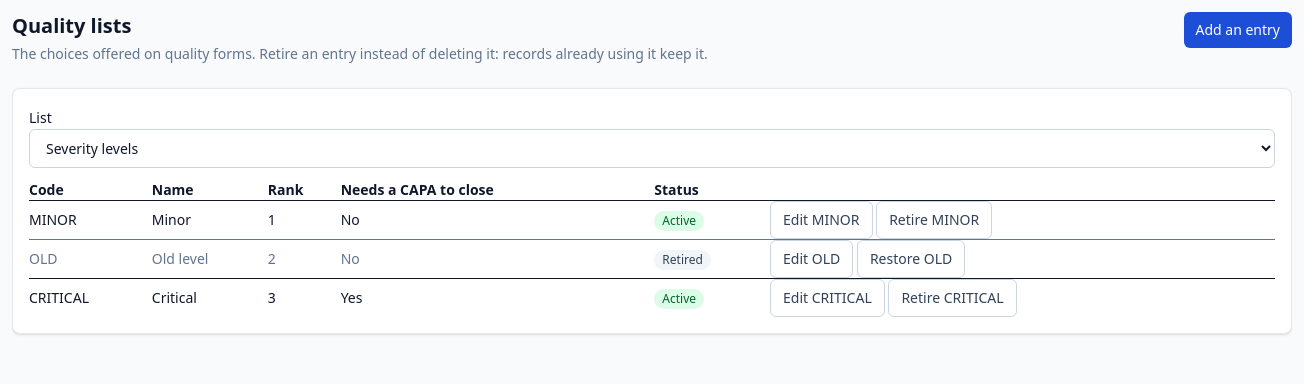
it: QualitySettingsPage › retires and restores an entry, and shows a server refusal
The width and height of the screenshot is (1304, 384).
What coordinates should you click on to do the following:
click the button "Retire MINOR"
I would click on:
 (934, 220)
Its box is left=876, top=201, right=992, bottom=239.
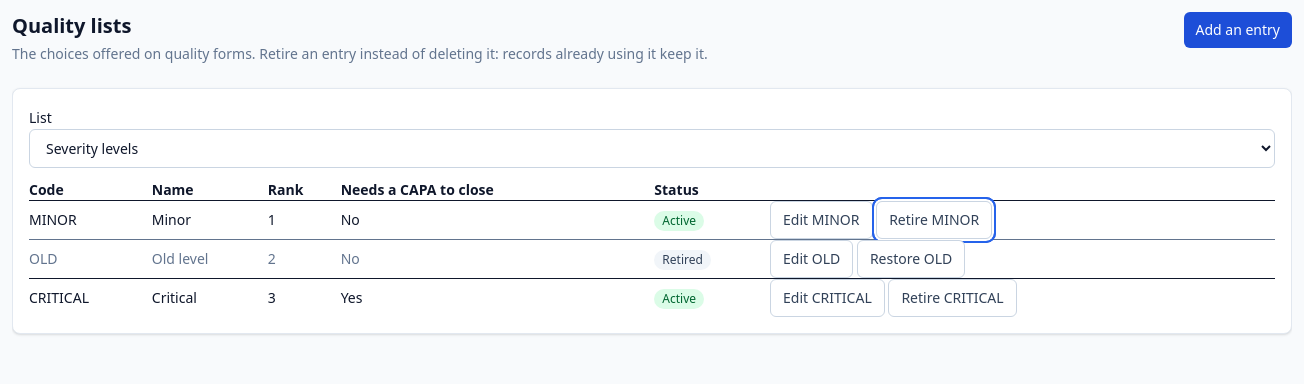
What coordinates should you click on to do the following:
click the button "Restore OLD"
I would click on:
 (911, 259)
Its box is left=857, top=240, right=965, bottom=278.
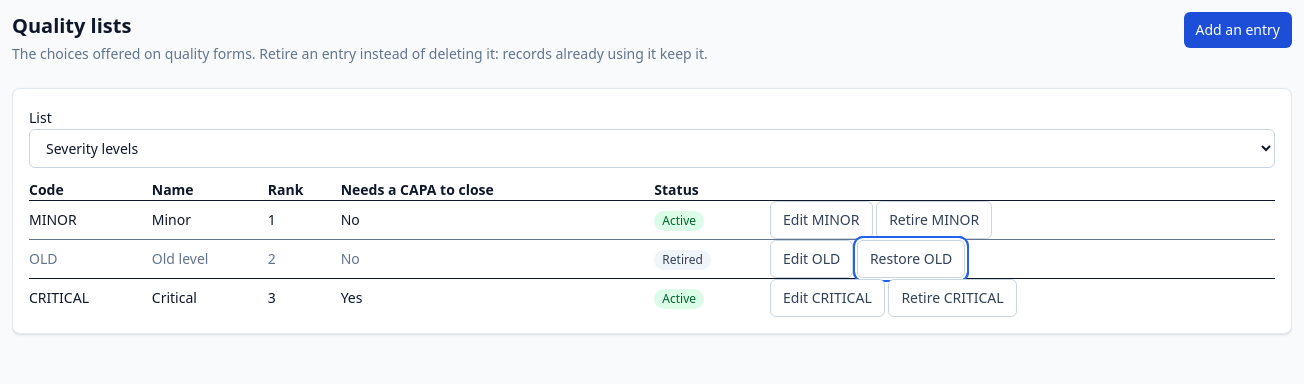
What coordinates should you click on to do the following:
click the button "Retire CRITICAL"
I would click on:
 (953, 298)
Its box is left=888, top=279, right=1017, bottom=317.
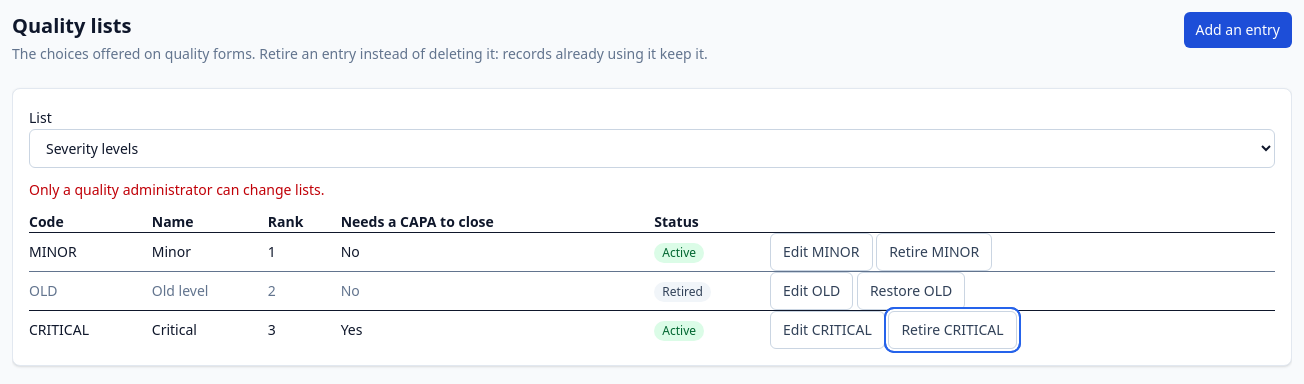
Expected: the message shows "Only a quality administrator", left=29, top=180, right=324, bottom=199
